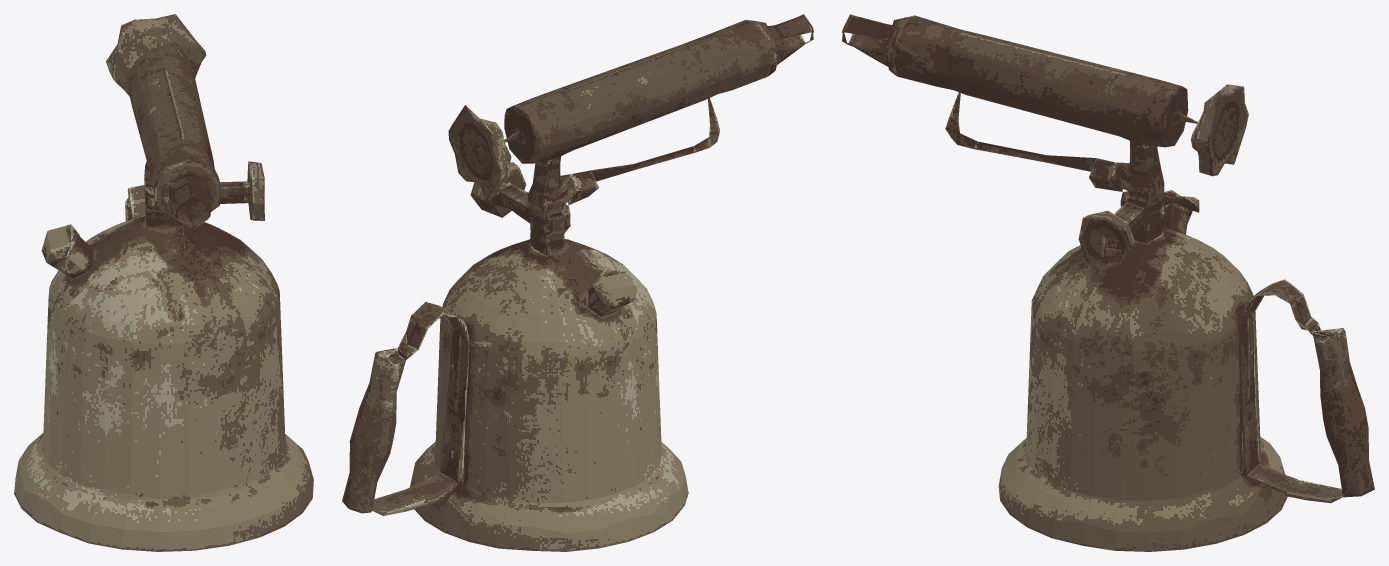
File: torch.glb
3 views of the same model, side by side, from view 1: azimuth 30°, elevation 25°; view 2: azimuth 150°, elevation 25°; view 3: azimuth 270°, elevation 25° (orthographic). The views are drawn at different scales.
Visible parts, largest first — view 1: model_m; view 2: model_m; view 3: model_m.
Boxes of the visible parts, x1=… form: model_m: x1=14, y1=14, x2=313, y2=551; model_m: x1=342, y1=14, x2=813, y2=551; model_m: x1=842, y1=14, x2=1374, y2=551.
Bounding box in the file's own units: 25.3 × 40 × 45.31.
Materials: 1 (1 with a texture image).
